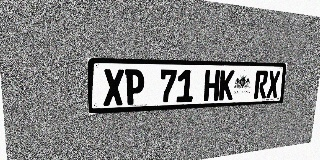1: (176, 70, 194, 102)
7: (158, 70, 177, 103)
H: (204, 70, 220, 101)
K: (219, 70, 235, 100)
P: (125, 69, 144, 105)
R: (254, 71, 268, 99)
X: (103, 69, 124, 106), (266, 71, 280, 98)
